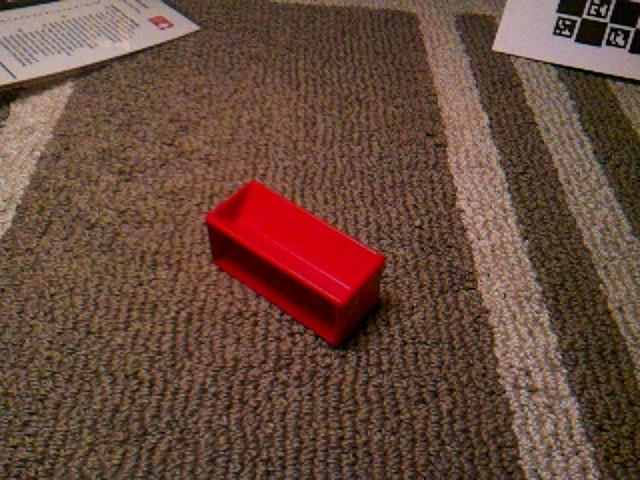red: (204, 178, 387, 349)
